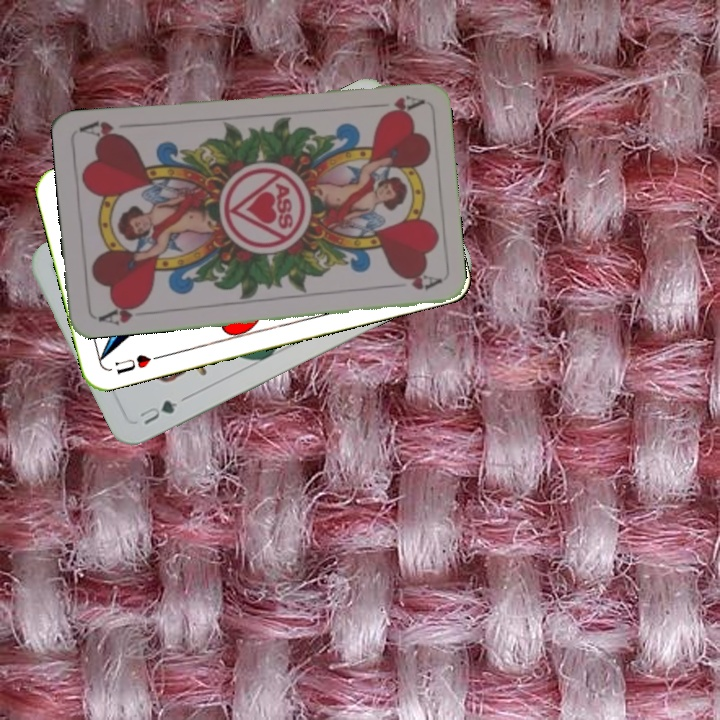GU: (134, 396, 180, 428)
HA: (93, 297, 152, 327), (365, 91, 425, 118)
HU: (110, 350, 164, 377)
